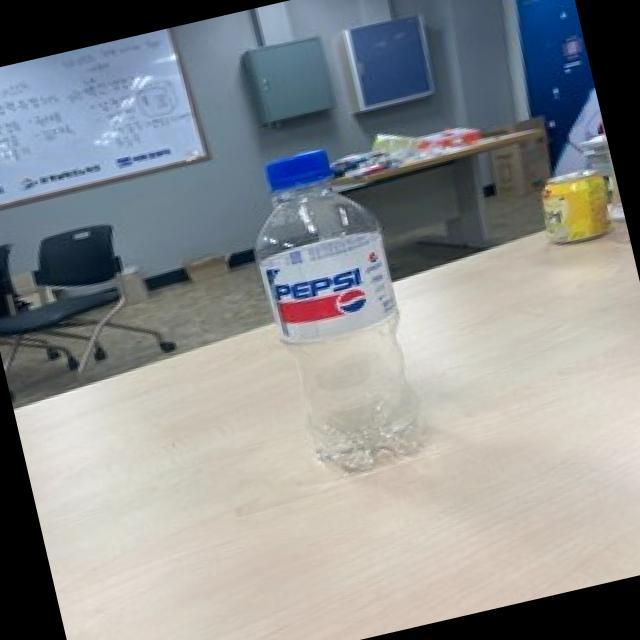good: (226, 128, 444, 496), (528, 150, 620, 258)
